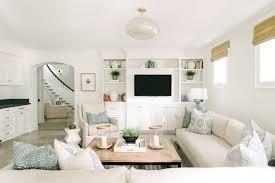TV: (132, 74, 177, 97)
chair: (79, 100, 124, 148), (43, 100, 56, 119)
door: (36, 65, 43, 122)
light: (125, 1, 159, 46), (186, 85, 210, 110)
sofa: (1, 141, 275, 183), (172, 110, 275, 168)
table: (81, 133, 181, 169), (45, 106, 69, 119)
